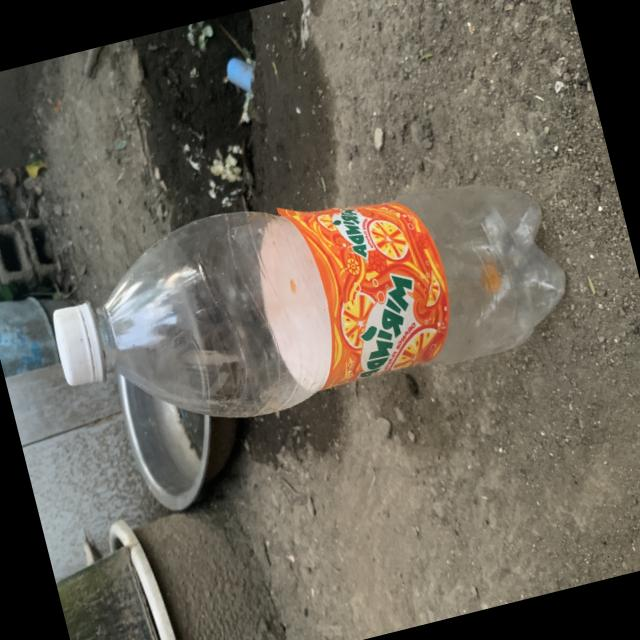Bottle: (54, 185, 565, 416)
